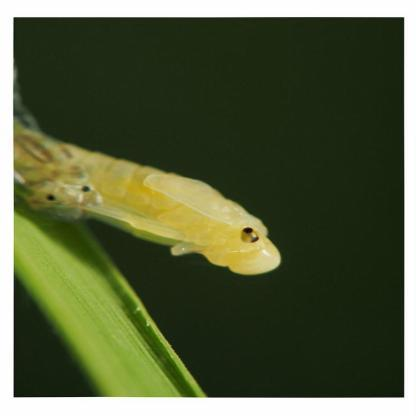green-leafhopper: (15, 120, 286, 282)
